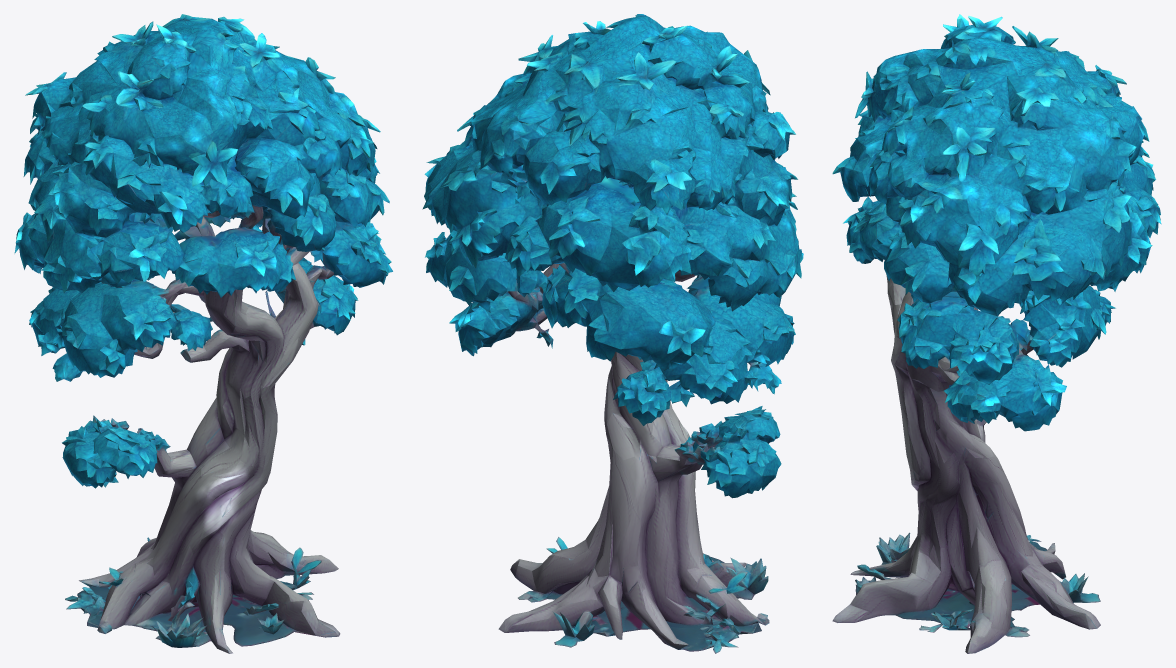
3 views of the same model, side by side, from view 1: azimuth 30°, elevation 25°; view 2: azimuth 150°, elevation 25°; view 3: azimuth 270°, elevation 25° (orthographic). The views are drawn at different scales.
Size of the model in its own units: 1.15 by 1.9 by 1.01.
Materials: 1 (1 with a texture image).
